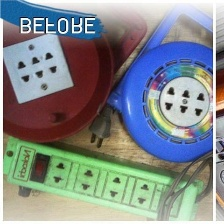three_eye_plug: (0, 135, 200, 223), (0, 12, 104, 128), (121, 44, 216, 164)
